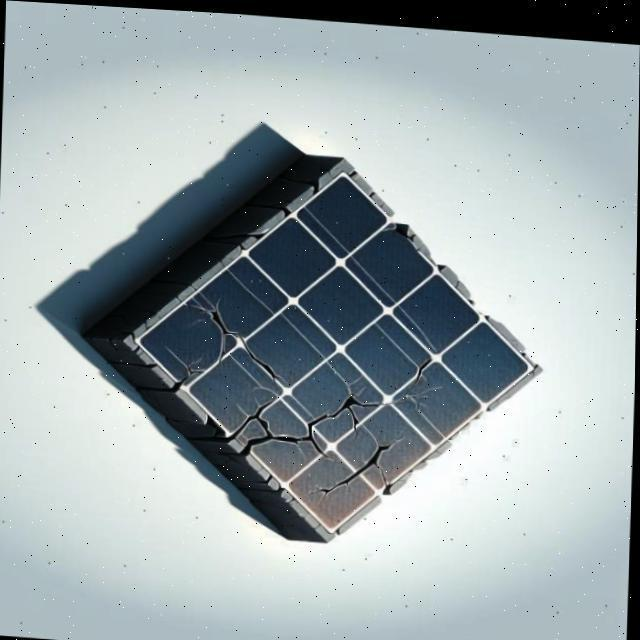Anomaly Solar Panel: (133, 165, 536, 526)
Structural Damage: (227, 349, 461, 485), (181, 281, 283, 399), (304, 423, 418, 525), (174, 351, 213, 385)
